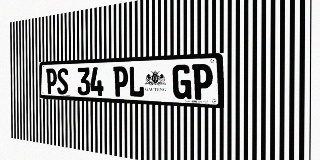3: (77, 67, 90, 95)
4: (90, 67, 103, 96)
G: (173, 64, 191, 99)
L: (128, 66, 144, 98)
P: (192, 64, 213, 100), (113, 66, 128, 97), (46, 68, 57, 94)
S: (57, 68, 68, 95)
